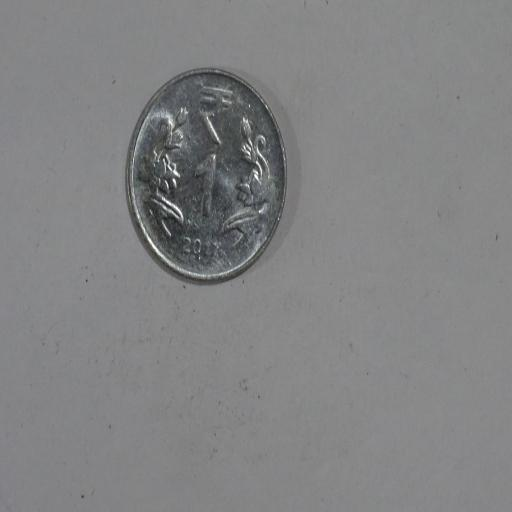rupee1: (124, 68, 288, 283)
